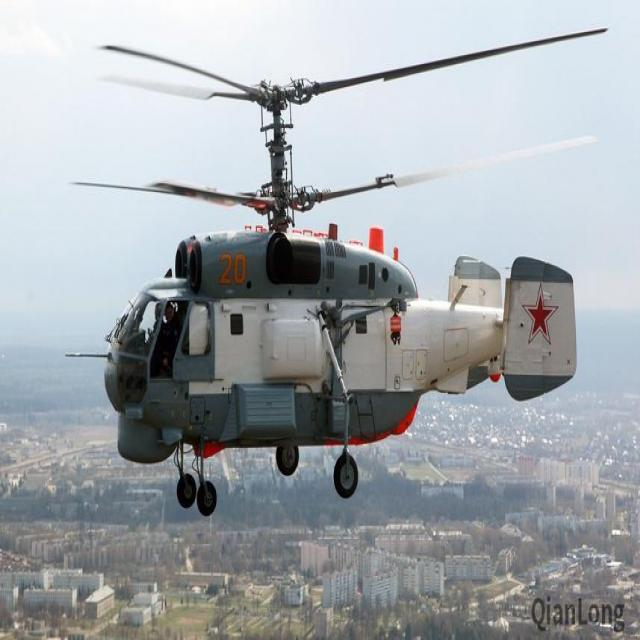MIL_HELO: (54, 28, 640, 509)
